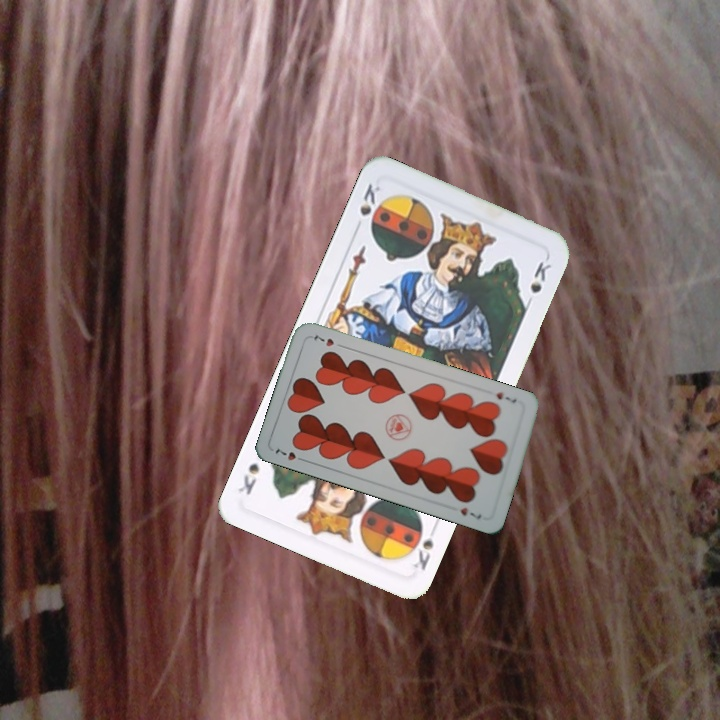H7: (271, 445, 309, 465), (492, 388, 519, 406)
SK: (405, 518, 441, 573), (350, 179, 383, 235)
